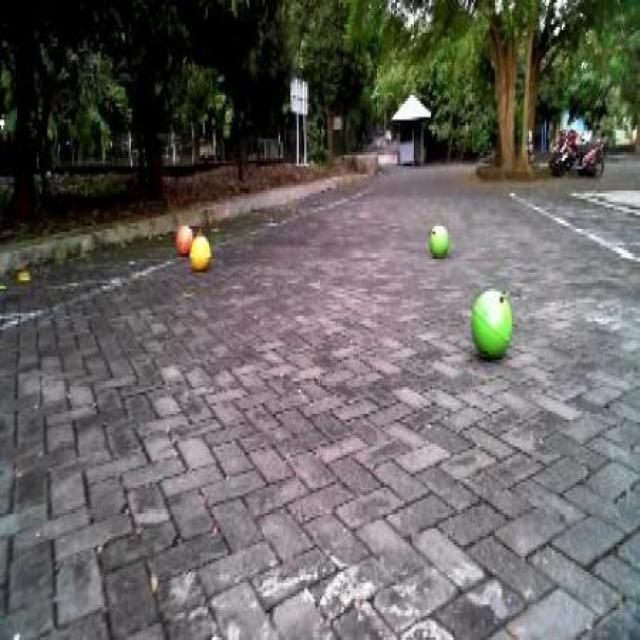buoy: (469, 269, 518, 365), (426, 216, 452, 260), (189, 231, 213, 278), (175, 218, 191, 248)
